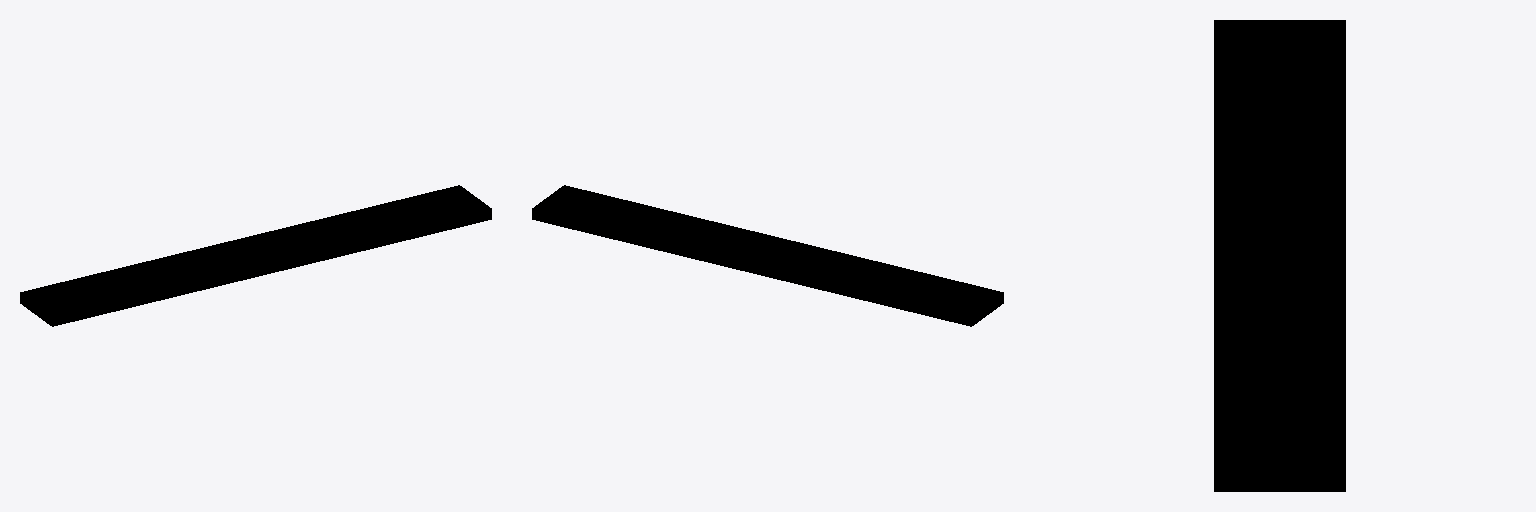
URDF robot description (wall):
<?xml version="1.0"?>
<robot name="wall">
  <material name="red">
    <color rgba="0.8 0 0 1"/>
  </material>
  <material name="green">
    <color rgba="0 0.8 0 1"/>
  </material>
  <material name="blue">
    <color rgba="0 0 0.8 1"/>
  </material>
  <material name="black">
    <color rgba="0 0 0 1"/>
  </material>
  <material name="white">
    <color rgba="1 1 1 1"/>
  </material>

  <link name="base_link">
    <visual>
      <geometry>
        <box size="4 0.5 0.1"/>
      </geometry>
      <material name="black"/>
    </visual>
    <collision>
      <geometry>
        <box size="4 0.5 0.1"/>
      </geometry>
    </collision>
    <inertial>
      <mass value="10"/>
      <inertia ixx="0.016" ixy="0.0" ixz="0.0" iyy="13.34" iyz="0.0" izz="13.34"/>
    </inertial>
  </link>
</robot>

--- Facts derived from the render (not from the file) ---
The picture shows the robot from 3 angles, left to right: view 1: azimuth 30°, elevation 25°; view 2: azimuth 150°, elevation 25°; view 3: azimuth 270°, elevation 25°; orthographic projection.
Robot: wall — 1 links, 0 joints (none); root link base_link; default pose: every joint at zero.
Links seen in each view (by area): view 1: base_link; view 2: base_link; view 3: base_link.
Boxes of the visible links, x1,y1,x2,y2 form: base_link: [20, 185, 491, 326]; base_link: [532, 185, 1003, 326]; base_link: [1214, 20, 1345, 491].
Bounding box of the posed robot: 4 × 0.5 × 0.1 m (x, y, z).
Geometry: primitives only (box / cylinder / sphere), no mesh files.
